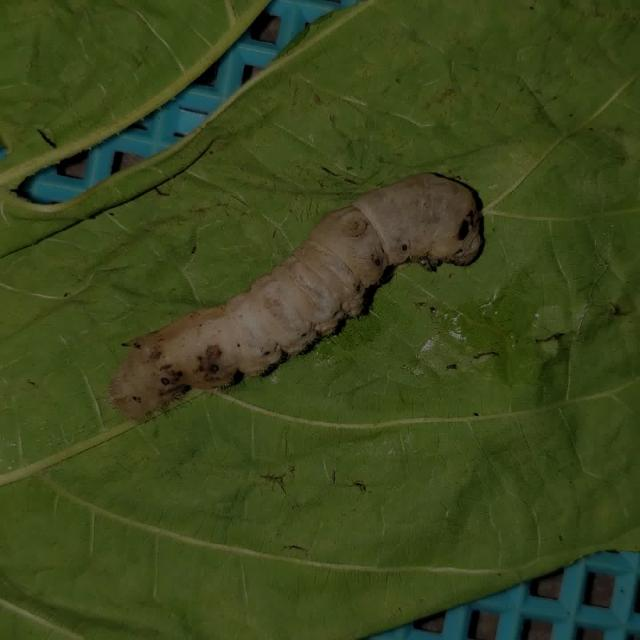Grasserie: (98, 162, 498, 421)
